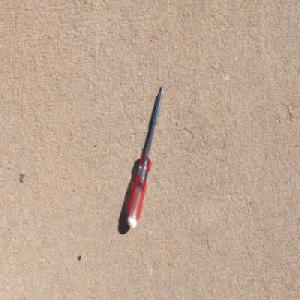Screwdriver: (126, 81, 165, 229)
